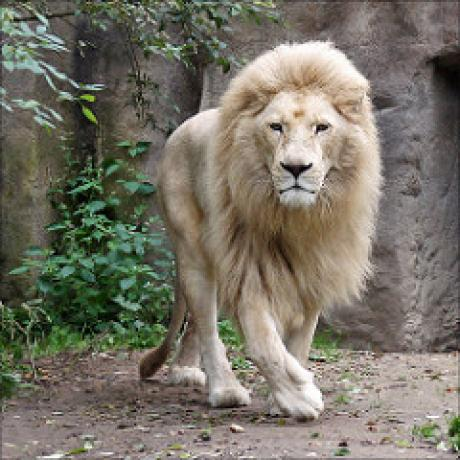Lion: (145, 35, 376, 424)
